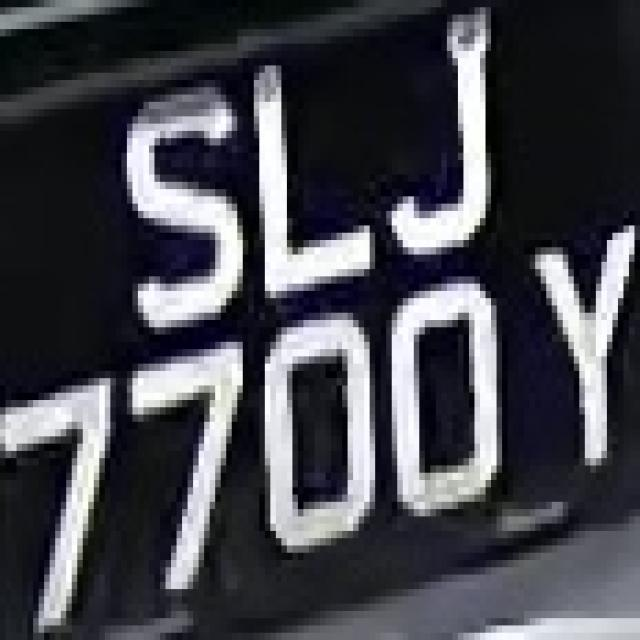0: (370, 276, 535, 546), (248, 313, 381, 567)
7: (127, 356, 265, 633), (11, 371, 132, 633)
J: (381, 8, 518, 276)
L: (226, 58, 381, 306)
S: (105, 87, 248, 349)
Y: (513, 189, 635, 480)
